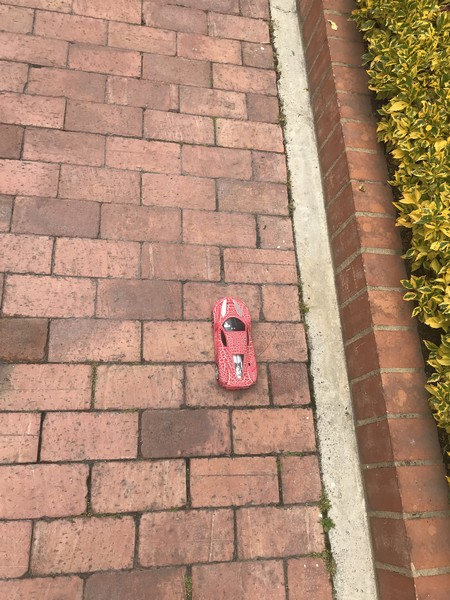RC: (209, 294, 257, 393)
